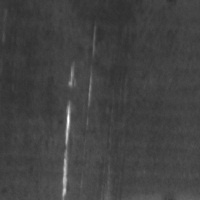scratches: (60, 65, 79, 199)
